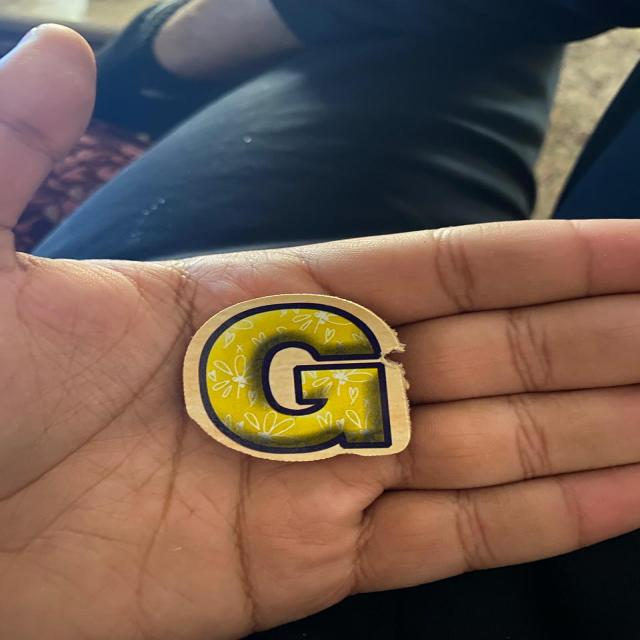G: (183, 292, 411, 462)
